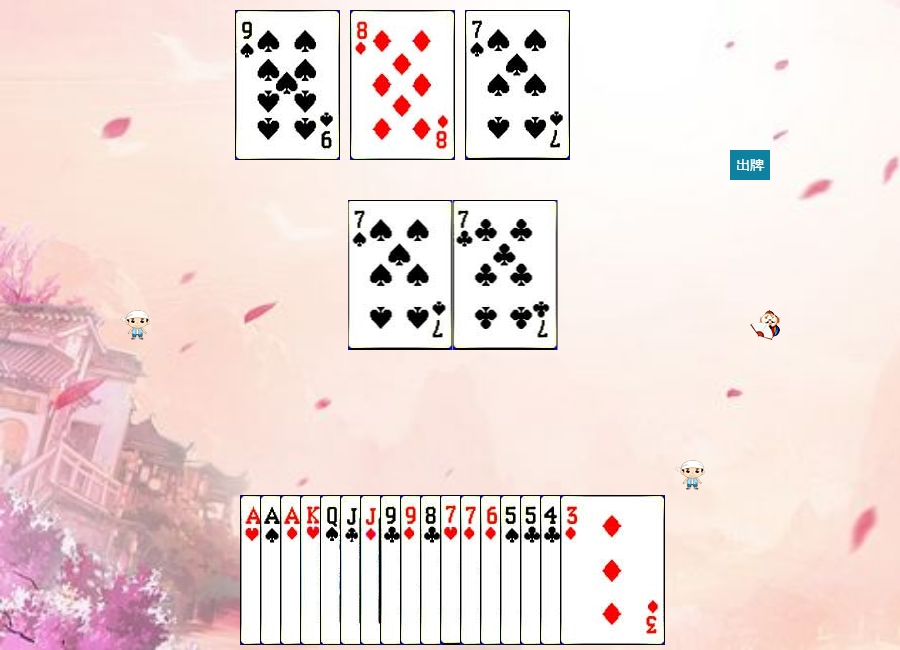11~1: (360, 495, 465, 645)
11~2: (340, 495, 445, 645)
12~4: (320, 495, 425, 645)
13~3: (300, 495, 405, 645)
14~1: (280, 495, 385, 645)
14~3: (240, 495, 345, 645)
14~4: (260, 495, 365, 645)
3~1: (560, 495, 665, 645)
4~2: (540, 495, 645, 645)
5~2: (520, 495, 625, 645)
5~4: (500, 495, 605, 645)
6~1: (480, 495, 585, 645)
7~1: (460, 495, 565, 645)
7~2: (453, 200, 558, 350)
7~3: (440, 495, 545, 645)
7~4: (465, 10, 570, 160), (348, 200, 453, 350)
8~1: (350, 10, 455, 160)
8~2: (420, 495, 525, 645)
9~1: (400, 495, 505, 645)
9~2: (380, 495, 485, 645)
9~4: (235, 10, 340, 160)
